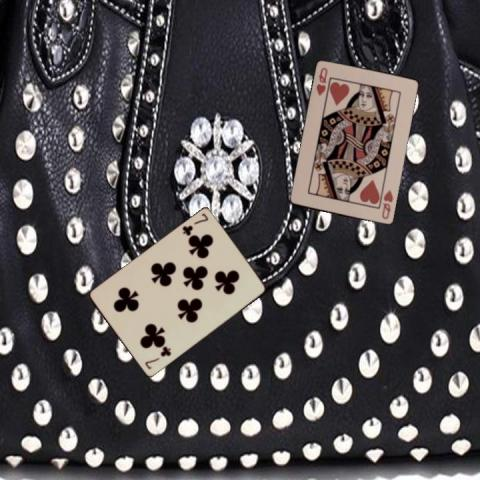7c: (142, 344, 173, 370), (179, 211, 210, 237)
Qh: (378, 187, 394, 221), (313, 65, 329, 97)
